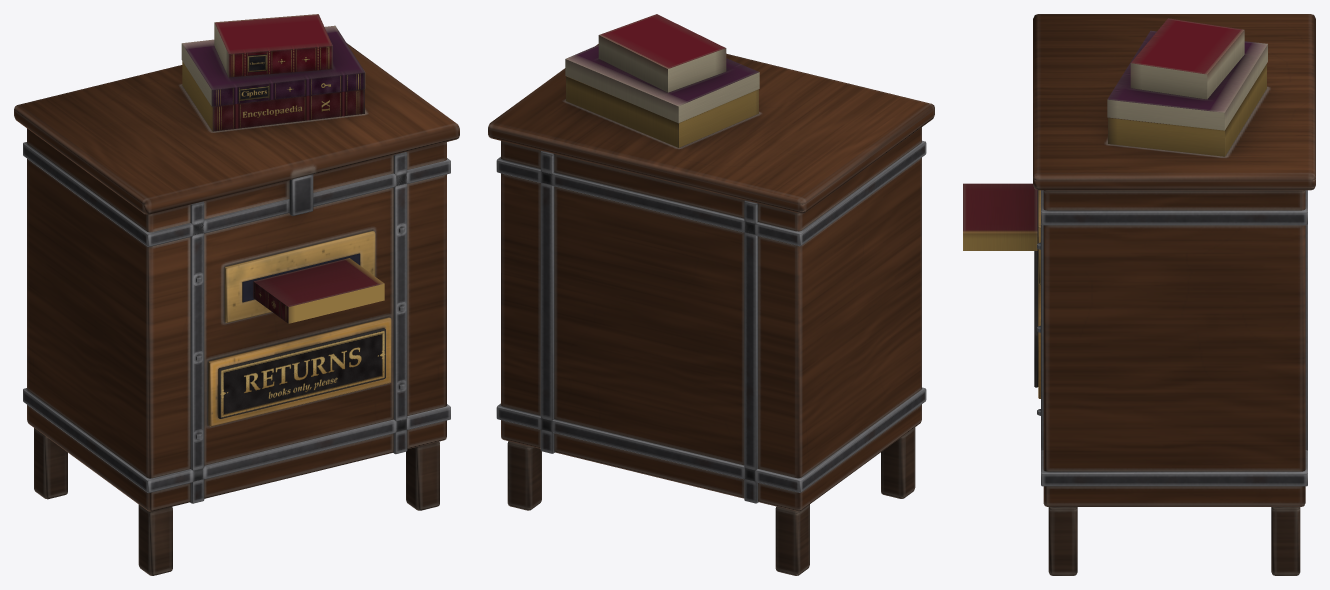
File: ReturnsBox.fbx
The picture shows the model from 3 angles, left to right: view 1: azimuth 30°, elevation 25°; view 2: azimuth 150°, elevation 25°; view 3: azimuth 270°, elevation 25°; orthographic projection. The views are drawn at different scales.
Parts seen in each view (by area): view 1: ReturnsBox; view 2: ReturnsBox; view 3: ReturnsBox.
Part boxes in pixels (x1,y1,x2,y2): ReturnsBox: (14,14,459,575); ReturnsBox: (488,14,934,575); ReturnsBox: (963,14,1315,575).
Bounding box in the file's own units: 296 × 403 × 270.
